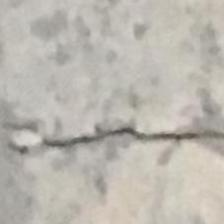Crack: (22, 104, 224, 171)
